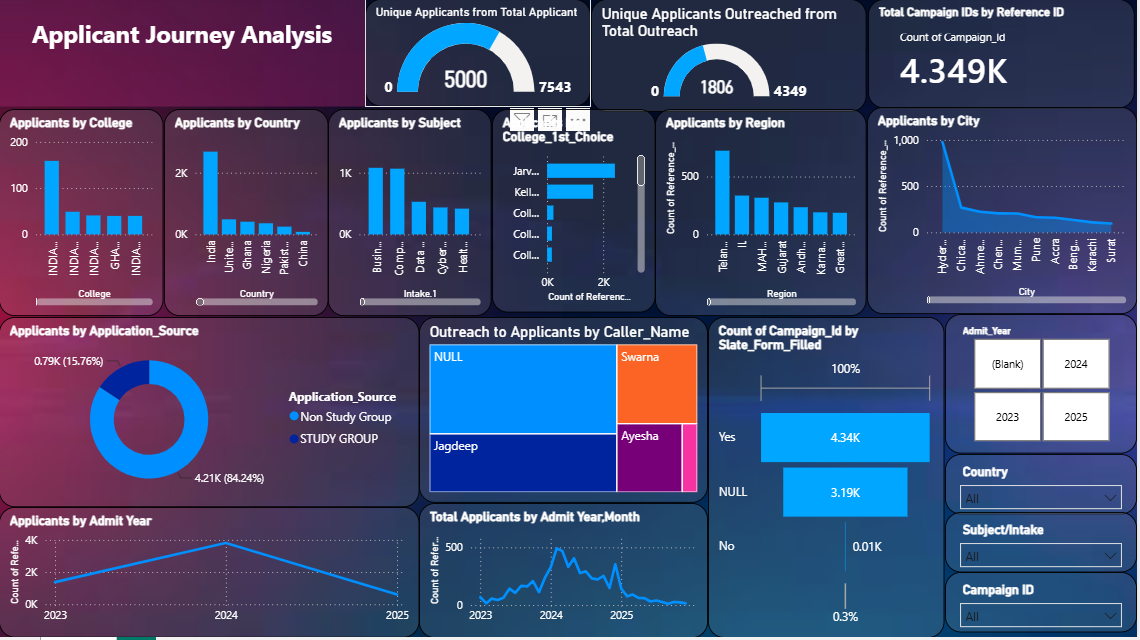

This screenshot's page, from the dashboard's own definition file:
{"tool":"powerbi","page":{"name":"Page 1","canvas":[1280,720],"ordinal":0},"visuals":[{"type":"gauge","title":"Unique Applicants from Total Applicant","fields":{"MaxValue":["CountNonNull(Master Table (2).Reference_ID)"],"Y":["Count(Master Table (2).Reference_ID)"]},"box":[411.6,2.7,254.4,121.2],"z":0},{"type":"gauge","title":"Unique Applicants Outreached from Total Outreach","fields":{"Y":["Count(Master Table (2).Reference_ID-2)"],"MaxValue":["CountNonNull(Master Table (2).Reference_ID-2)"]},"box":[666,2.7,310.3,126.5],"z":1000},{"type":"cardVisual","title":"Total Campaign IDs by Reference ID","fields":{"Data":["CountNonNull(Master Table (2).Campaign_Id)"]},"box":[977.6,2.7,299.7,122.5],"z":2000},{"type":"clusteredColumnChart","title":"Applicants by College","fields":{"Category":["Master Table (2).College"],"Y":["Count(Master Table (2).Reference_ID)"]},"box":[0,126.5,185.1,233.1],"z":3000},{"type":"columnChart","title":"Applicants by Country","fields":{"Category":["Master Table (2).Country"],"Y":["Count(Master Table (2).Reference_ID)"]},"box":[185.1,126.5,185.1,233.1],"z":4000},{"type":"clusteredColumnChart","title":"Applicants by Subject","fields":{"Y":["CountNonNull(Master Table (2).Reference_ID)"],"Category":["Master Table (2).Intake.1"]},"box":[370.3,126.5,183.8,233.1],"z":5000},{"type":"clusteredBarChart","title":"Applicants by College_1st_Choice","fields":{"Category":["Master Table (2).College_1st_Choice"],"Y":["Count(Master Table (2).Reference_ID)"]},"box":[554.1,126.5,183.8,229.1],"z":6000},{"type":"lineClusteredColumnComboChart","title":"Applicants by Region","fields":{"Y":["Count(Master Table (2).Reference_ID)"],"Category":["Master Table (2).Region"]},"box":[737.9,126.5,238.4,233.1],"z":7000},{"type":"areaChart","title":"Applicants by City","fields":{"Category":["Master Table (2).City"],"Y":["CountNonNull(Master Table (2).Reference_ID)"]},"box":[976.3,123.9,303.7,233.1],"z":8000},{"type":"donutChart","title":"Applicants by Application_Source","fields":{"Y":["Count(Master Table (2).Reference_ID)"],"Category":["Master Table (2).Application_Source"]},"box":[0,359.6,472.8,214.4],"z":9000},{"type":"treemap","title":"Outreach to Applicants by Caller_Name","fields":{"Group":["Master Table (2).Caller_Name"],"Values":["CountNonNull(Master Table (2).Reference_ID)"]},"box":[472.8,359.6,325,209.1],"z":10000},{"type":"funnel","fields":{"Category":["Master Table (2).Slate_Form_Filled"],"Y":["CountNonNull(Master Table (2).Campaign_Id)"]},"box":[797.8,359.6,266.4,361],"z":11000},{"type":"lineChart","title":"Applicants by Admit Year","fields":{"Category":["Master Table (2).Admit_Date.Variation.Date Hierarchy.Year"],"Y":["CountNonNull(Master Table (2).Reference_ID)"]},"box":[0,574.1,472.8,146.5],"z":12000},{"type":"slicer","fields":{"Values":["Master Table (2).Country"]},"box":[1064.2,514.1,215.8,67.9],"z":13000},{"type":"slicer","fields":{"Values":["Master Table (2).Admit_Date.Variation.Date Hierarchy.Year"]},"box":[1064.2,357,215.8,157.2],"z":14000},{"type":"slicer","fields":{"Values":["Master Table (2).Intake.2"]},"box":[1064.2,579.4,215.8,67.9],"z":15000},{"type":"slicer","fields":{"Values":["Master Table (2).Campaign_Id"]},"box":[1064.2,647.3,215.8,67.9],"z":16000},{"type":"lineChart","title":"Total Applicants by Admit Year,Month","fields":{"Y":["CountNonNull(Master Table (2).Reference_ID)"],"Category":["Master Table (2).Admit_Date.Variation.Date Hierarchy.Year","Master Table (2).Admit_Date.Variation.Date Hierarchy.Month"]},"box":[472.8,568.7,325,151.8],"z":17000},{"type":"textbox","box":[0,2.7,411.6,121.2],"z":17001}]}

Visuals, with their boxes in screenshot pixels (x1, y1, x2, y2), scaled from the page's 1280x720 canvas onto the 1140x640 screenshot:
"Unique Applicants from Total Applicant" gauge: x1=367 y1=2 x2=593 y2=110
"Unique Applicants Outreached from Total Outreach" gauge: x1=593 y1=2 x2=870 y2=115
"Total Campaign IDs by Reference ID" cardVisual: x1=871 y1=2 x2=1138 y2=111
"Applicants by College" clusteredColumnChart: x1=0 y1=112 x2=165 y2=320
"Applicants by Country" columnChart: x1=165 y1=112 x2=330 y2=320
"Applicants by Subject" clusteredColumnChart: x1=330 y1=112 x2=493 y2=320
"Applicants by College_1st_Choice" clusteredBarChart: x1=493 y1=112 x2=657 y2=316
"Applicants by Region" lineClusteredColumnComboChart: x1=657 y1=112 x2=870 y2=320
"Applicants by City" areaChart: x1=870 y1=110 x2=1139 y2=317
"Applicants by Application_Source" donutChart: x1=0 y1=320 x2=421 y2=510
"Outreach to Applicants by Caller_Name" treemap: x1=421 y1=320 x2=711 y2=506
funnel - Master Table (2).Slate_Form_Filled x CountNonNull(Master Table (2).Campaign_Id): x1=711 y1=320 x2=948 y2=639
"Applicants by Admit Year" lineChart: x1=0 y1=510 x2=421 y2=639
slicer - Master Table (2).Country: x1=948 y1=457 x2=1139 y2=517
slicer - Master Table (2).Admit_Date.Variation.Date Hierarchy.Year: x1=948 y1=317 x2=1139 y2=457
slicer - Master Table (2).Intake.2: x1=948 y1=515 x2=1139 y2=575
slicer - Master Table (2).Campaign_Id: x1=948 y1=575 x2=1139 y2=636
"Total Applicants by Admit Year,Month" lineChart: x1=421 y1=506 x2=711 y2=639
textbox: x1=0 y1=2 x2=367 y2=110
